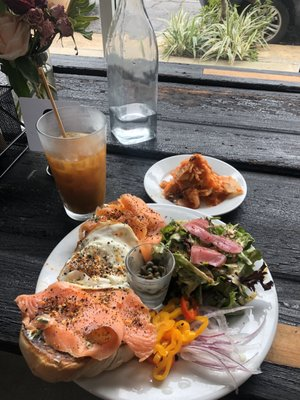pizza: (36, 104, 108, 221), (104, 0, 158, 146), (125, 242, 176, 311)
sushi: (125, 243, 176, 311)
